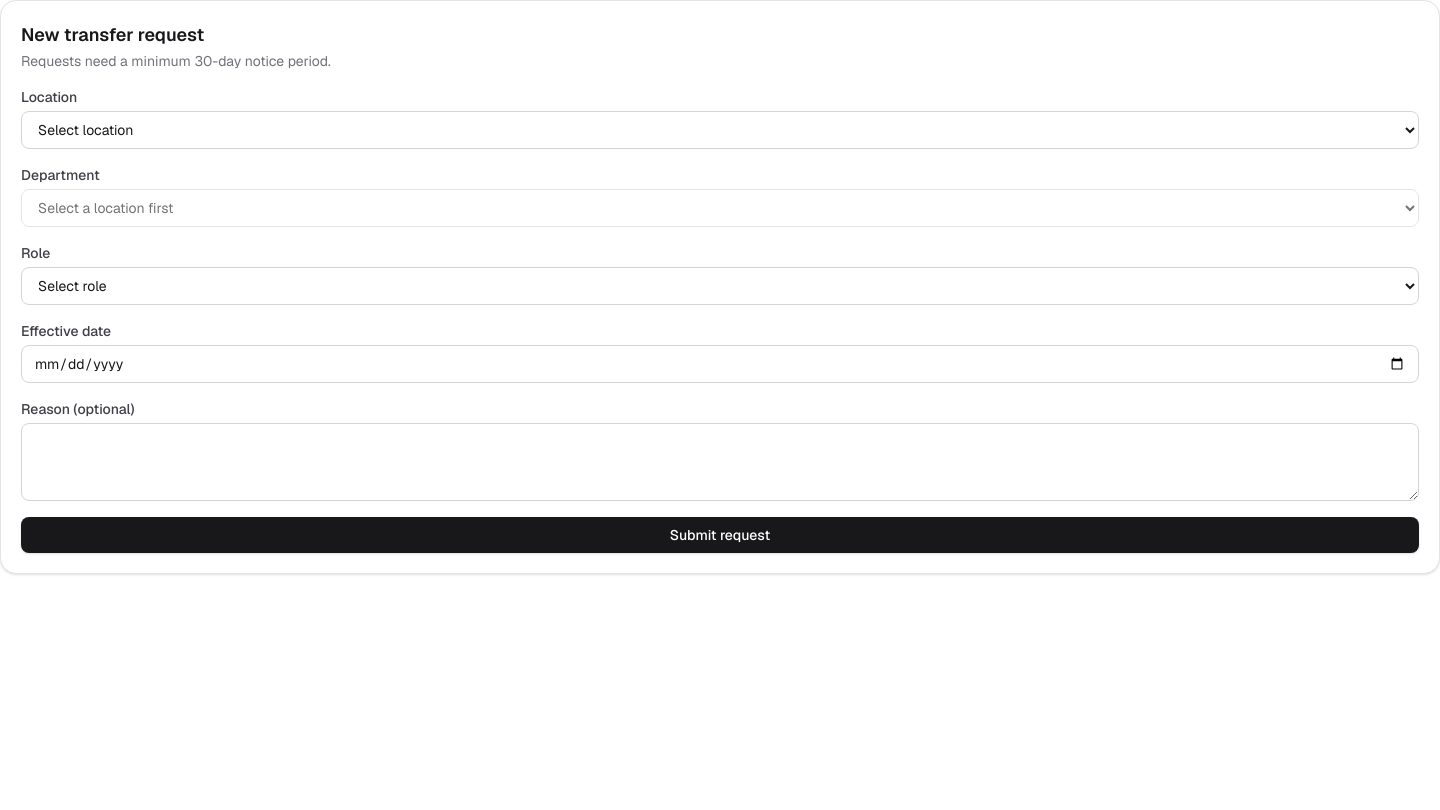
Test: NewTransferRequestScreen › disables the Department select until a Location is chosen, then enables it
The width and height of the screenshot is (1440, 810).
Expected: the dropdown labelled "Department" is disabled, [21,189,1419,227]
Select "Delhi" in the dropdown labelled "Location": {"x": 720, "y": 130} [21,111,1419,149]
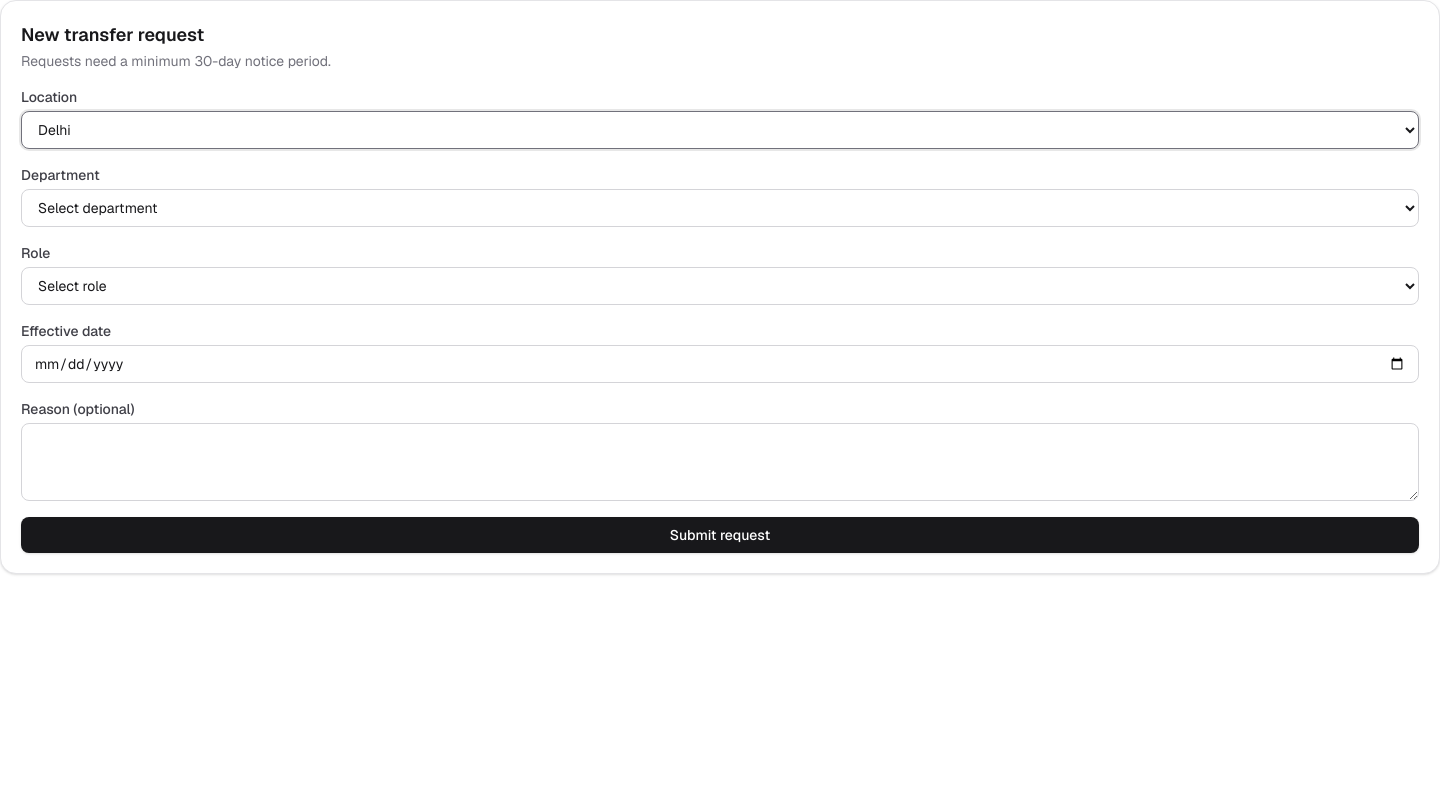
Now the dropdown labelled "Department" is enabled, box [21,189,1419,227]
